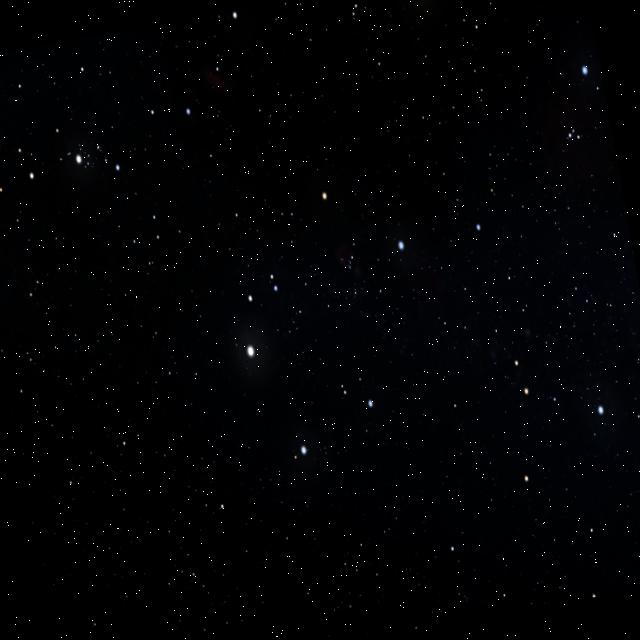Auriga: (215, 170, 442, 470)
